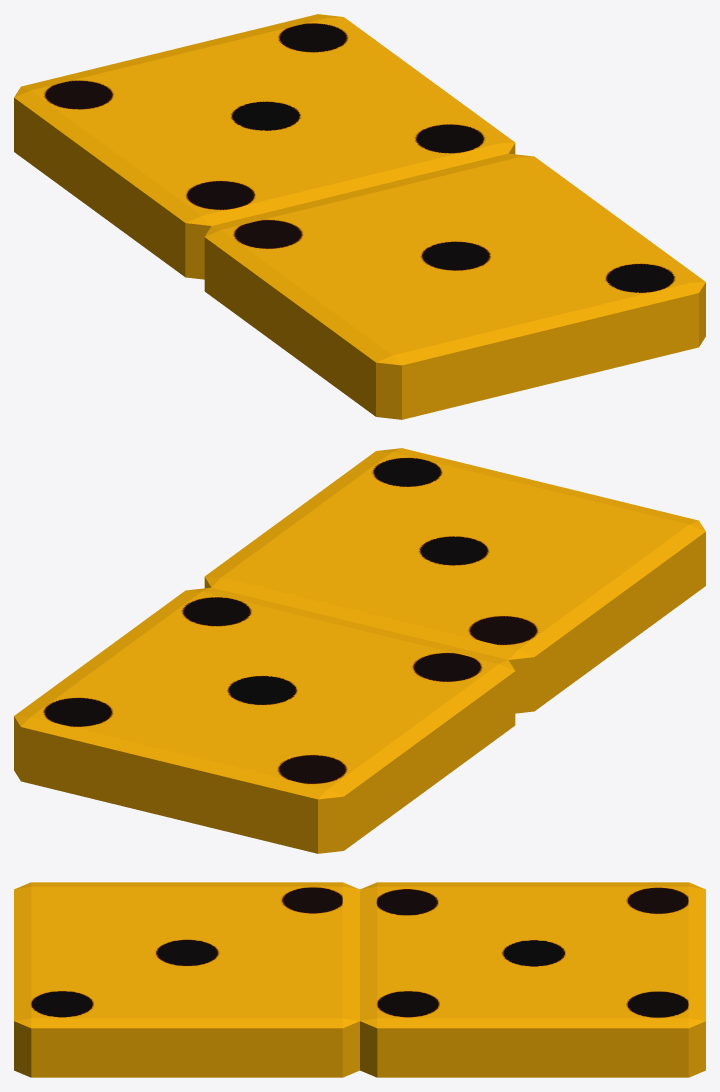
The model's file is domino_3.glb.
3 views of the same model, one above another, from view 1: azimuth 30°, elevation 25°; view 2: azimuth 150°, elevation 25°; view 3: azimuth 270°, elevation 25° (orthographic). The views are drawn at different scales.
Visible parts, largest first — view 1: Dom.212_low_0.002; view 2: Dom.212_low_0.002; view 3: Dom.212_low_0.002.
Part boxes in pixels (x1,y1,x2,y2): Dom.212_low_0.002: (14, 14, 705, 419); Dom.212_low_0.002: (14, 448, 705, 853); Dom.212_low_0.002: (14, 882, 705, 1077).
Size of the model in its own units: 2 by 0.35 by 4.
2 materials, 2 textured.
